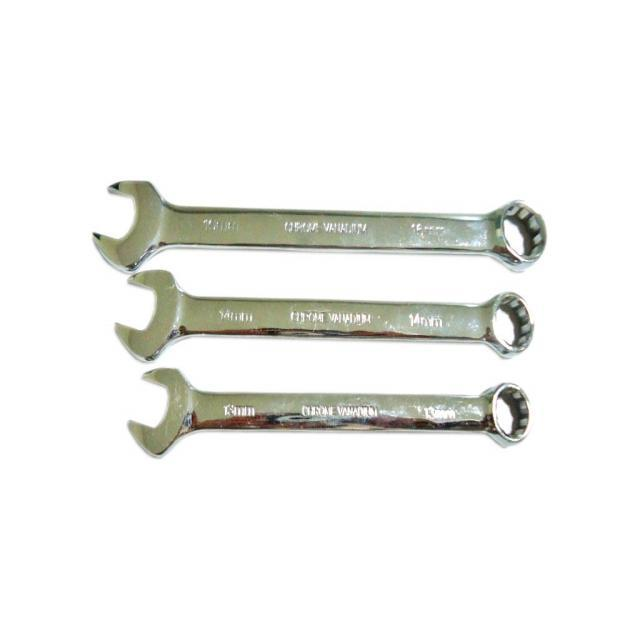wrench: (92, 174, 550, 278), (113, 266, 537, 364), (127, 366, 530, 464)
